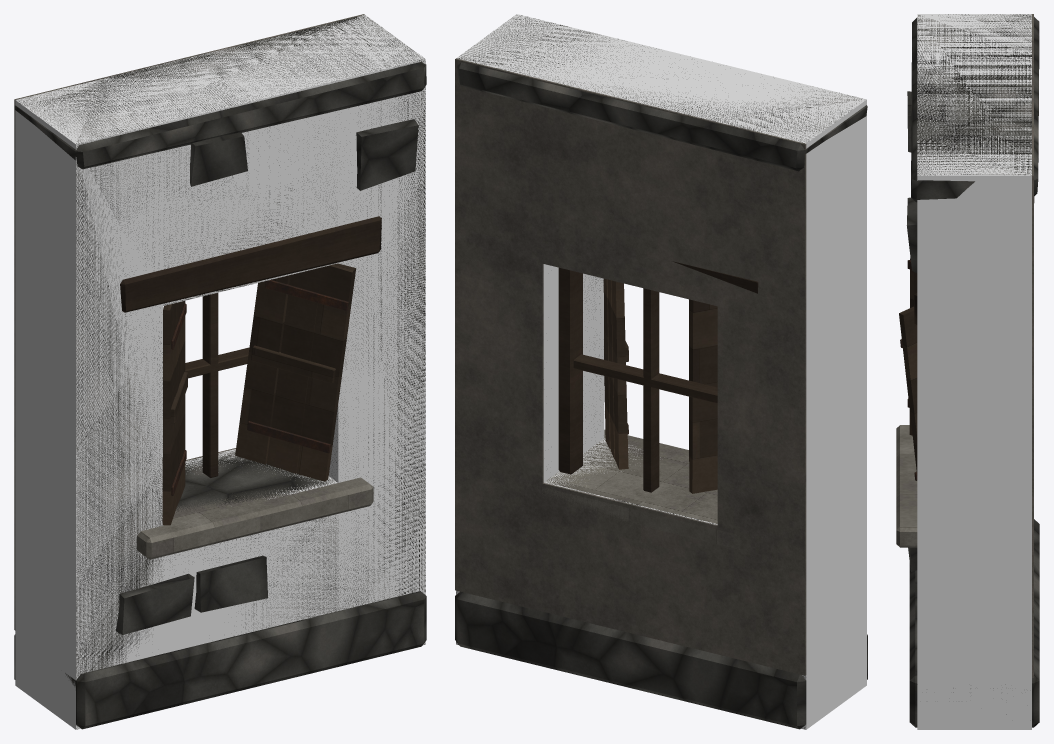
File: ak_wall_stone_2x3_win_square_broken.glb
The picture shows the model from 3 angles, left to right: view 1: azimuth 30°, elevation 25°; view 2: azimuth 150°, elevation 25°; view 3: azimuth 270°, elevation 25°; orthographic projection. The views are drawn at different scales.
Visible parts, largest first — view 1: col_wall_L, wall, col_wall_R, wall_stones, col_wall_top, frame, shutter_R, col_wall_low, shutter_L, wall_plaster; view 2: wall_plaster, col_wall_L, wall_stones, frame, col_wall_R, col_wall_top, shutter_L, wall, shutter_R, col_wall_low; view 3: col_wall_R, wall, col_wall_top, wall_stones, col_wall_L, frame, shutter_R, wall_plaster, shutter_L.
Part boxes in pixels (x1,y1,x2,y2): col_wall_L: (15, 79, 163, 729); wall: (16, 15, 425, 729); col_wall_R: (278, 15, 425, 645); wall_stones: (14, 62, 426, 729); col_wall_top: (103, 36, 338, 305); frame: (120, 216, 381, 559); shutter_R: (235, 263, 356, 481); col_wall_low: (163, 449, 338, 653); shutter_L: (162, 301, 187, 525); wall_plaster: (14, 14, 364, 630); wall_plaster: (455, 58, 806, 675); col_wall_L: (719, 78, 866, 729); wall_stones: (455, 62, 867, 729); frame: (520, 261, 758, 549); col_wall_R: (456, 14, 604, 644); col_wall_top: (544, 35, 778, 122); shutter_L: (689, 299, 717, 493); wall: (456, 15, 862, 729); shutter_R: (603, 278, 628, 469); col_wall_low: (544, 438, 717, 524); col_wall_R: (917, 135, 1031, 729); wall: (917, 14, 1031, 175); col_wall_top: (917, 54, 1031, 135); wall_stones: (906, 17, 1039, 727); col_wall_L: (917, 14, 1031, 54); frame: (896, 196, 1034, 547); shutter_R: (899, 306, 917, 480); wall_plaster: (1032, 14, 1033, 677); shutter_L: (907, 258, 913, 435).
Size of the model in its own units: 2.01 by 3.2 by 0.75.
Materials: 6 (6 with a texture image).
